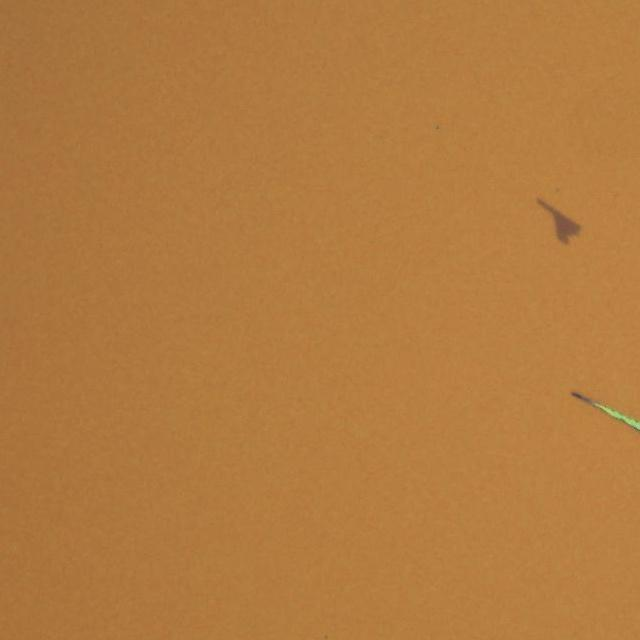monolayer-eWW4: (534, 197, 584, 246)
